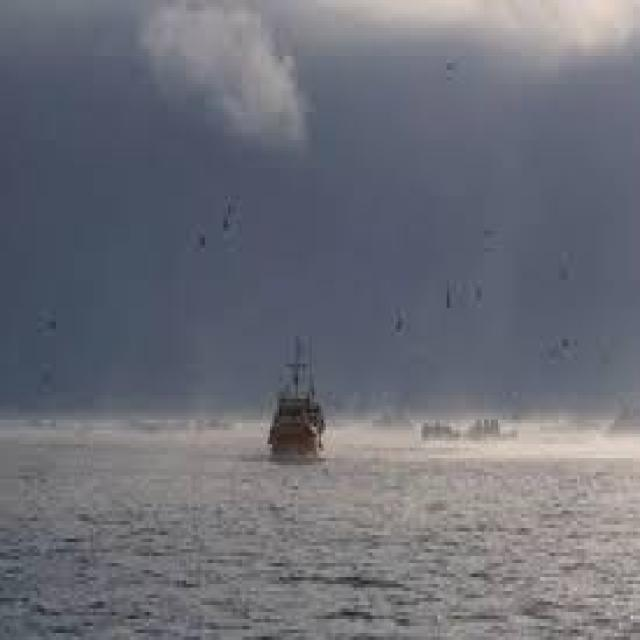fishing boat: (268, 331, 336, 462)
